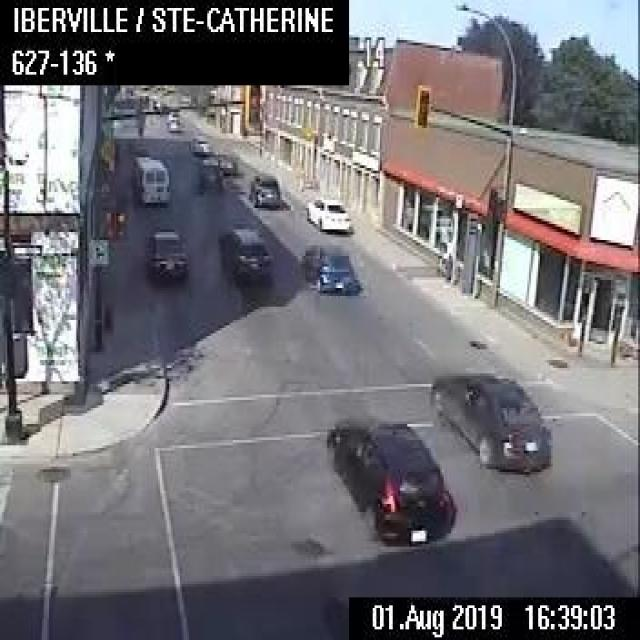vehicle: (326, 414, 454, 544), (429, 369, 550, 471), (216, 222, 272, 285), (302, 239, 356, 292), (144, 225, 187, 283), (130, 154, 170, 202), (304, 193, 350, 230), (248, 170, 280, 207), (194, 154, 223, 193), (212, 148, 234, 172), (188, 132, 209, 152), (166, 114, 181, 130)
